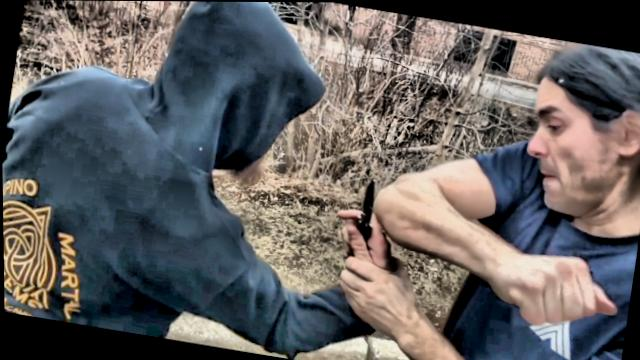knife: (325, 162, 388, 257)
